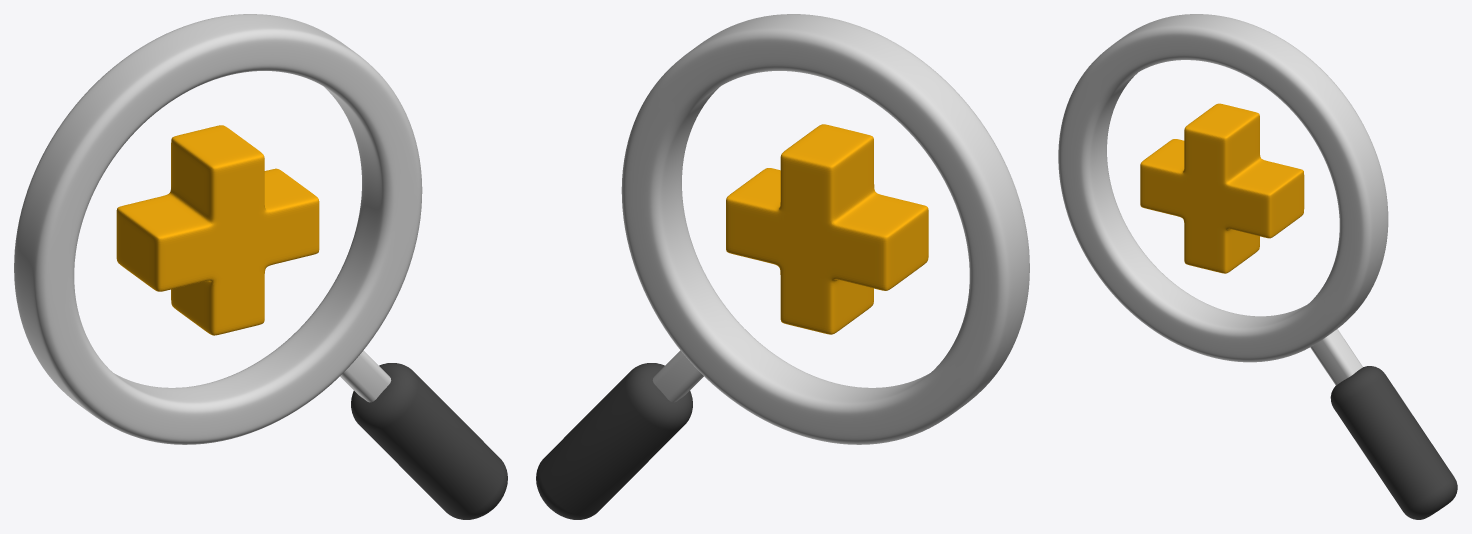
Rendered from zoom-in-animated-3d-icon-1703587181853.glb.
3 renders of one model, left to right at view 1: azimuth 30°, elevation 25°; view 2: azimuth 150°, elevation 25°; view 3: azimuth 330°, elevation 25°, orthographic. The views are drawn at different scales.
Parts seen in each view (by area): view 1: Frame, Plus Symbol, Handle; view 2: Frame, Plus Symbol, Handle; view 3: Frame, Plus Symbol, Handle.
Part boxes in pixels (x1=…): Frame: x1=14, y1=14, x2=422, y2=444; Plus Symbol: x1=116, y1=125, x2=319, y2=335; Handle: x1=351, y1=363, x2=507, y2=519; Frame: x1=621, y1=14, x2=1029, y2=444; Plus Symbol: x1=726, y1=124, x2=928, y2=334; Handle: x1=536, y1=363, x2=692, y2=519; Frame: x1=1058, y1=14, x2=1388, y2=385; Plus Symbol: x1=1140, y1=103, x2=1304, y2=273; Handle: x1=1330, y1=366, x2=1457, y2=519.
Bounding box in the file's own units: 1.47 × 1.61 × 0.2339.
